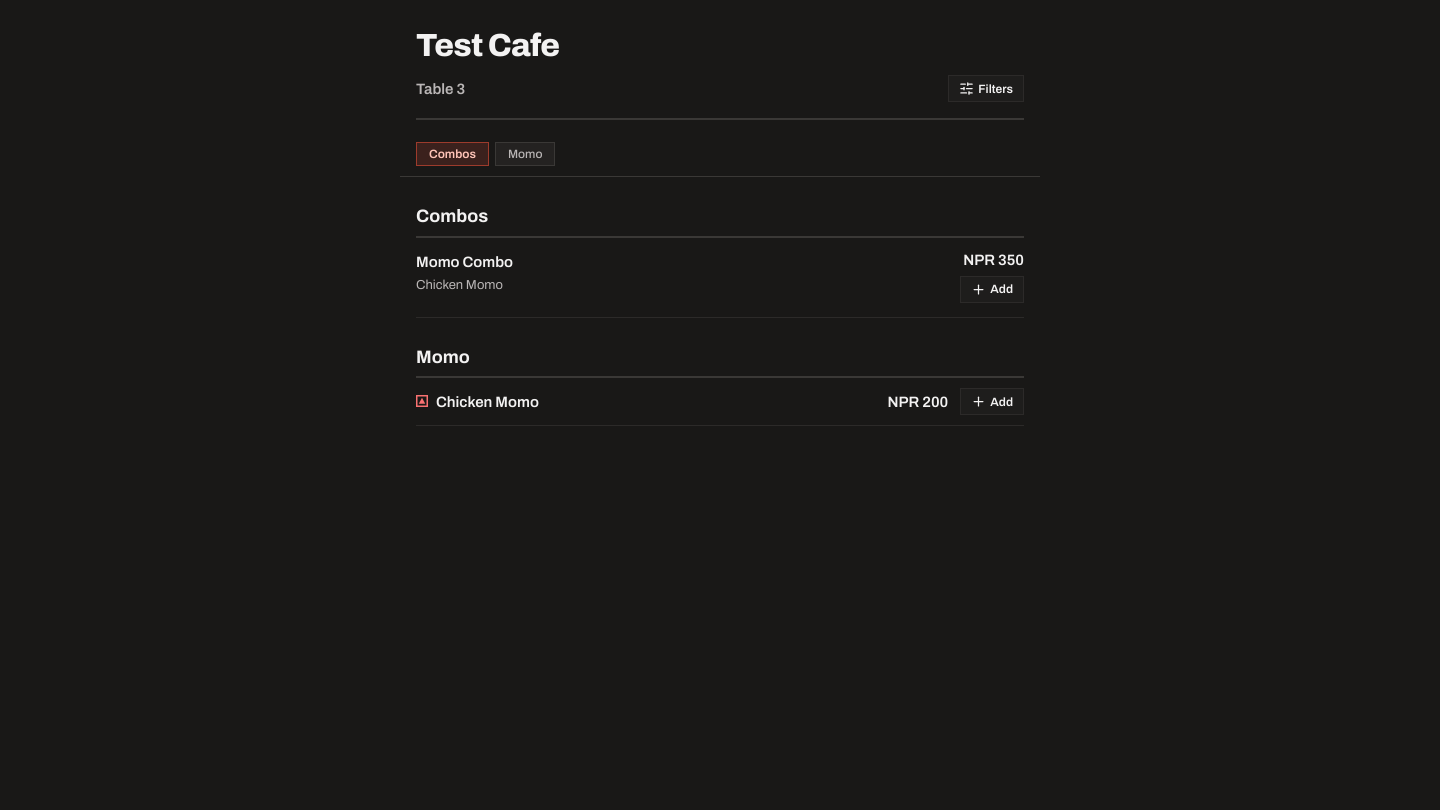
it: the filter sheet counts what it will show (S844) › says nothing matches rather than offering to show none
Click the button "Filters" at (986, 89), box [948,75,1024,102]
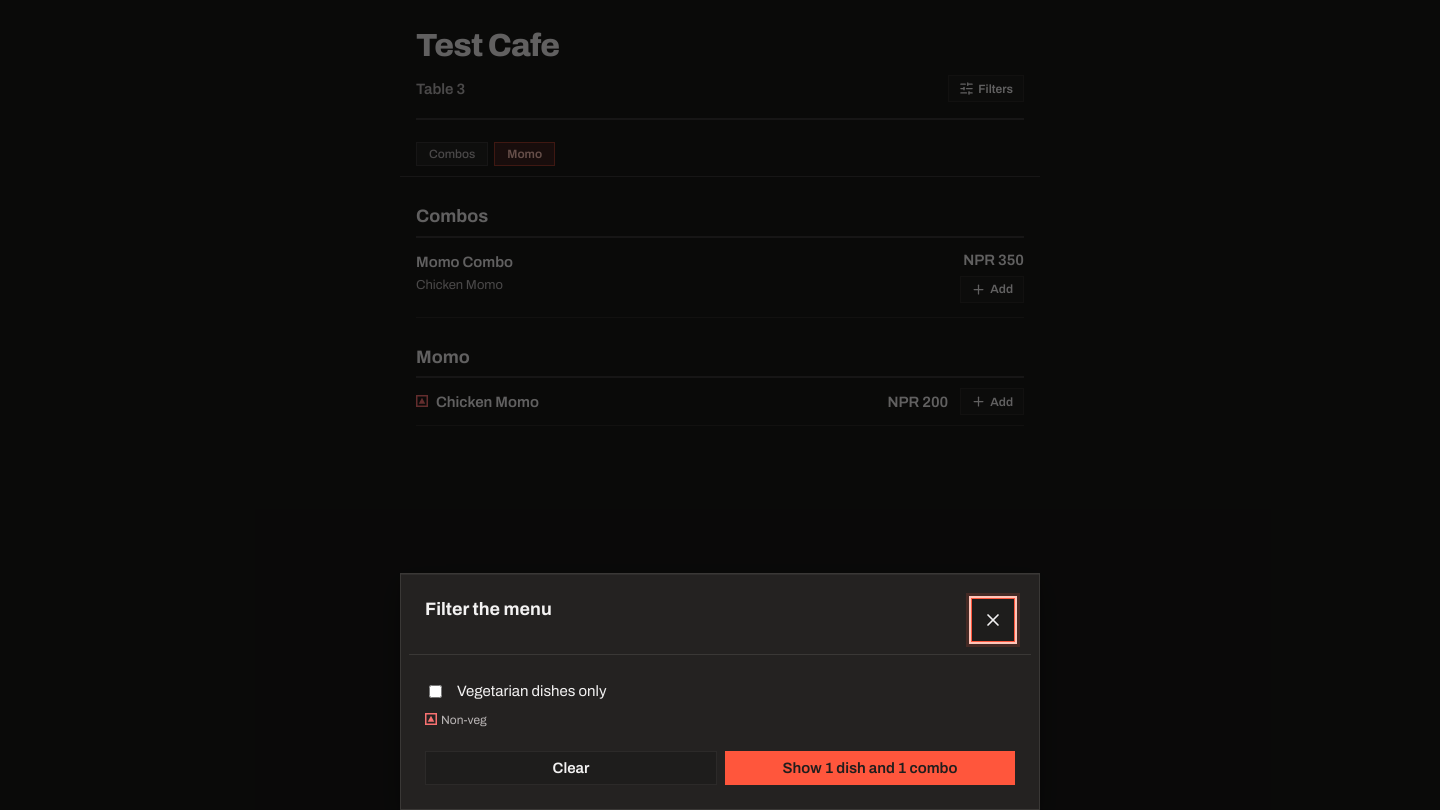
Check: the button "Show 1 dish and 1 combo" is shown, box [725,751,1015,785]
Click the checkbox labelled "Vegetarian dishes only" at (436, 691), box [429,684,442,698]
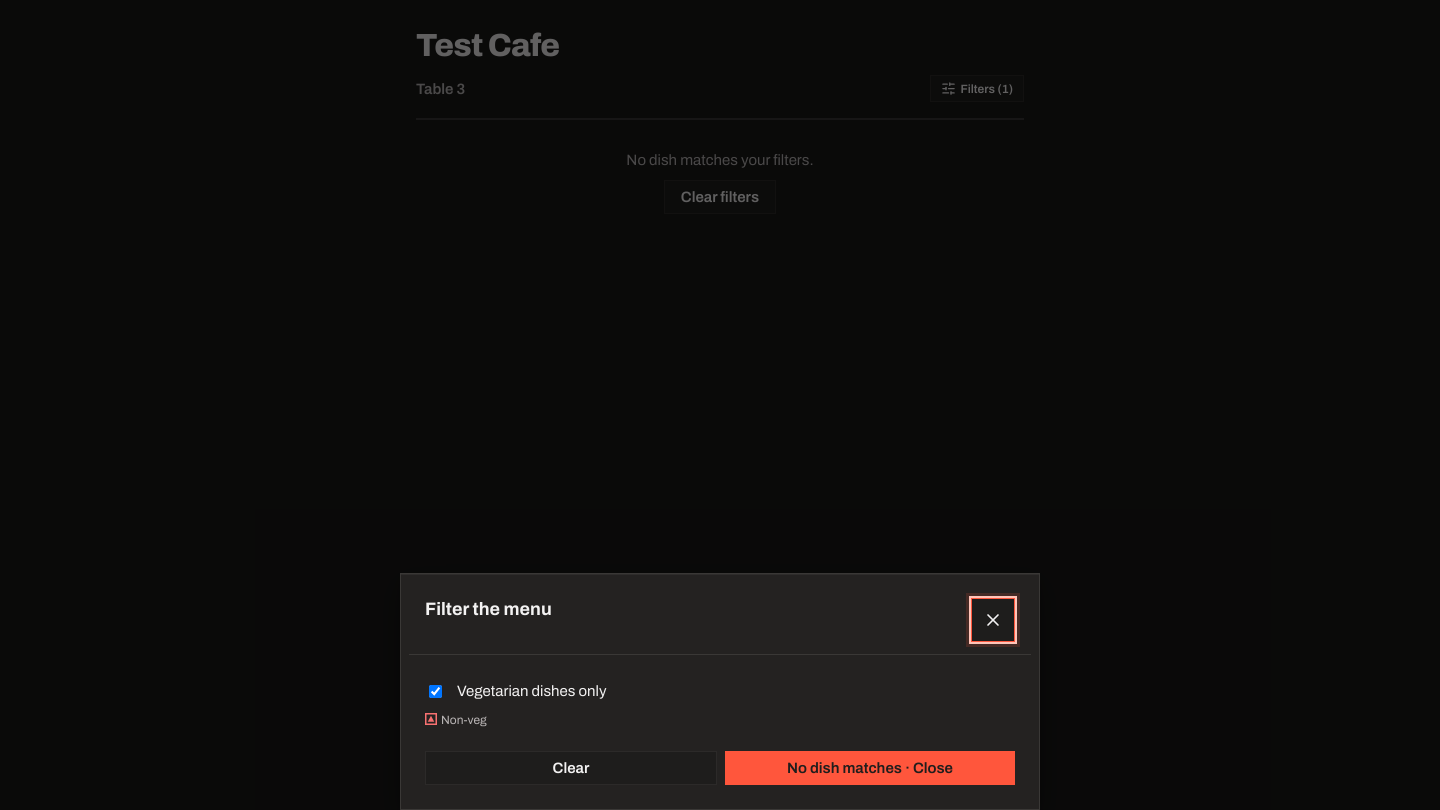
Check: the button "No dish matches · Close" is shown, box [725,751,1015,785]
